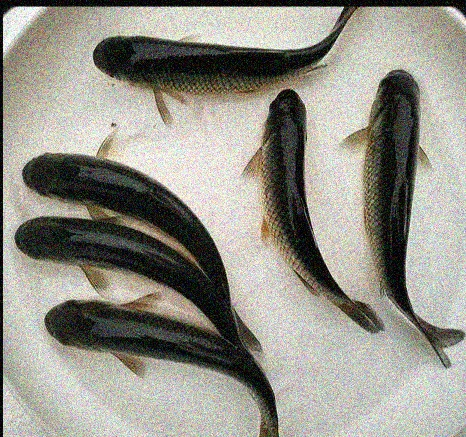fry: (33, 289, 297, 406), (371, 56, 457, 345), (236, 92, 347, 301), (81, 23, 322, 93), (8, 208, 172, 284), (16, 139, 169, 216)
